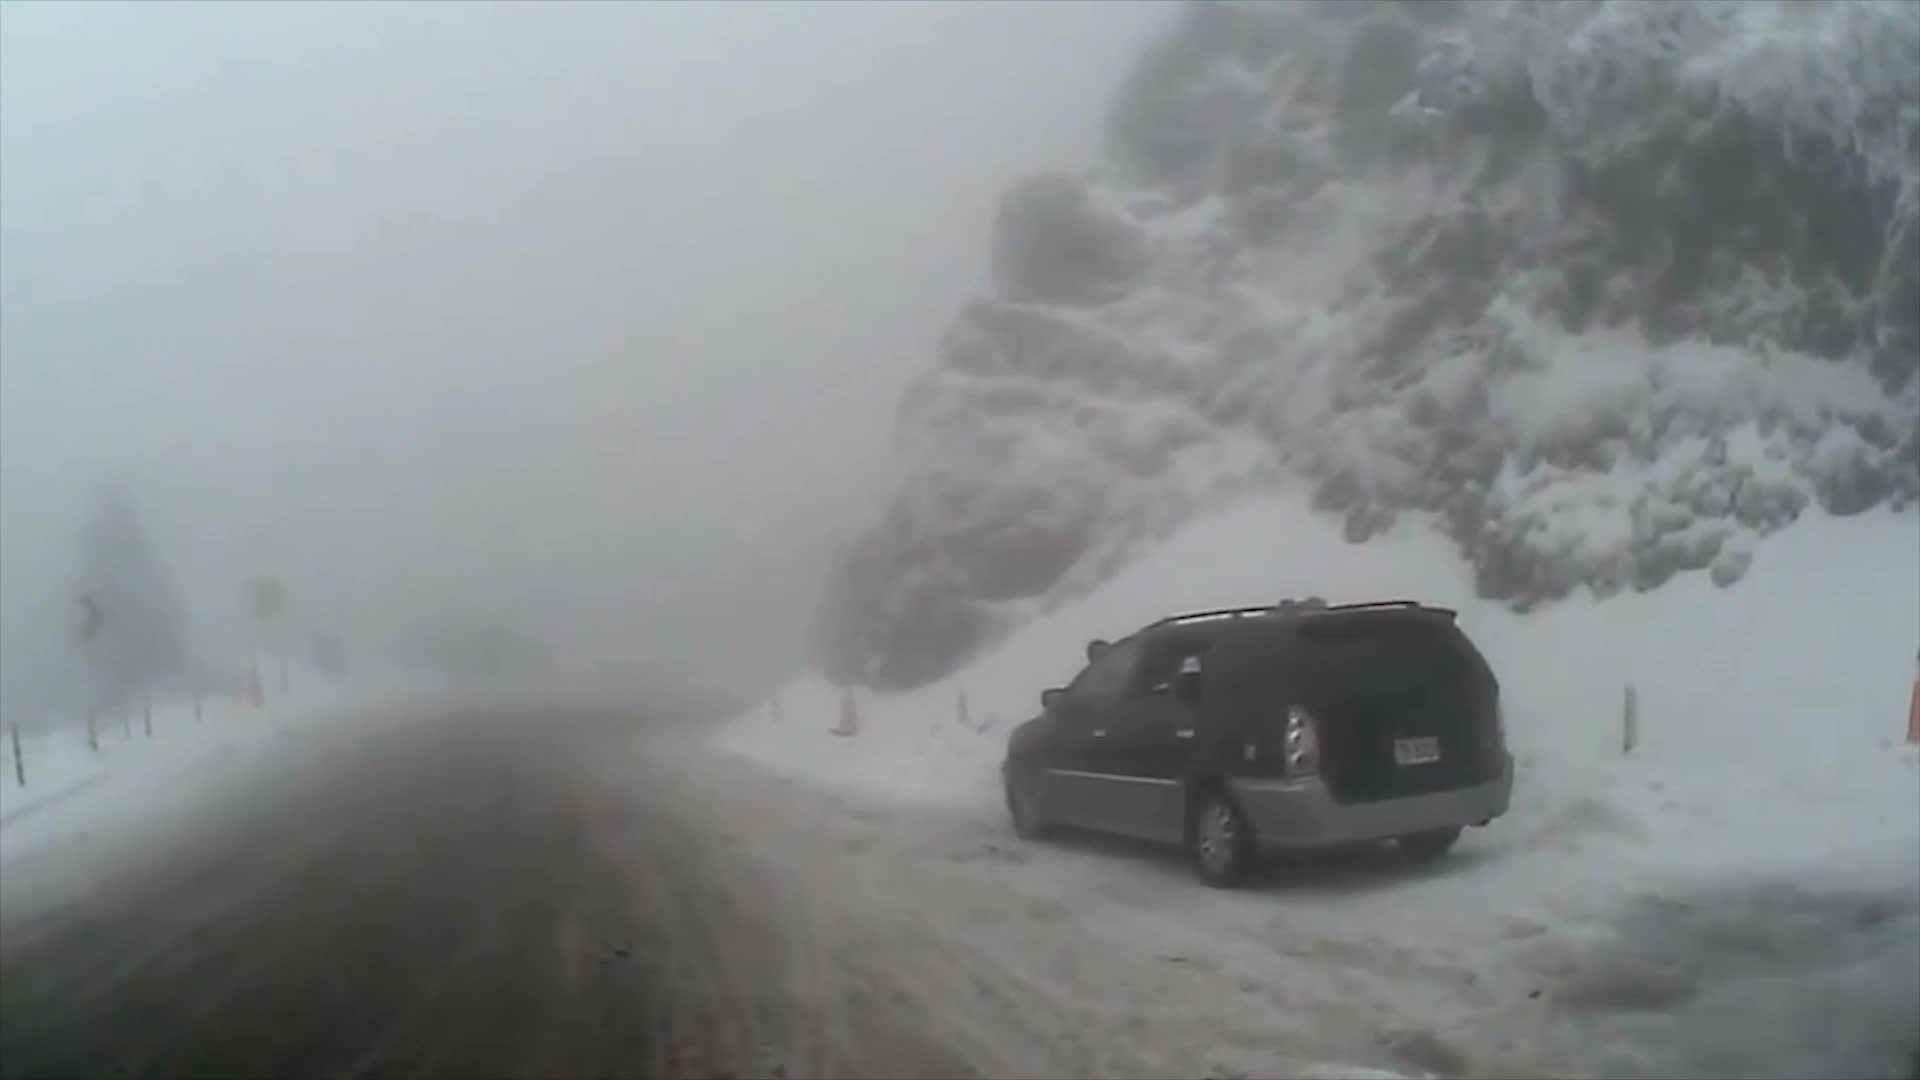vehicle: (1000, 593, 1516, 887)
